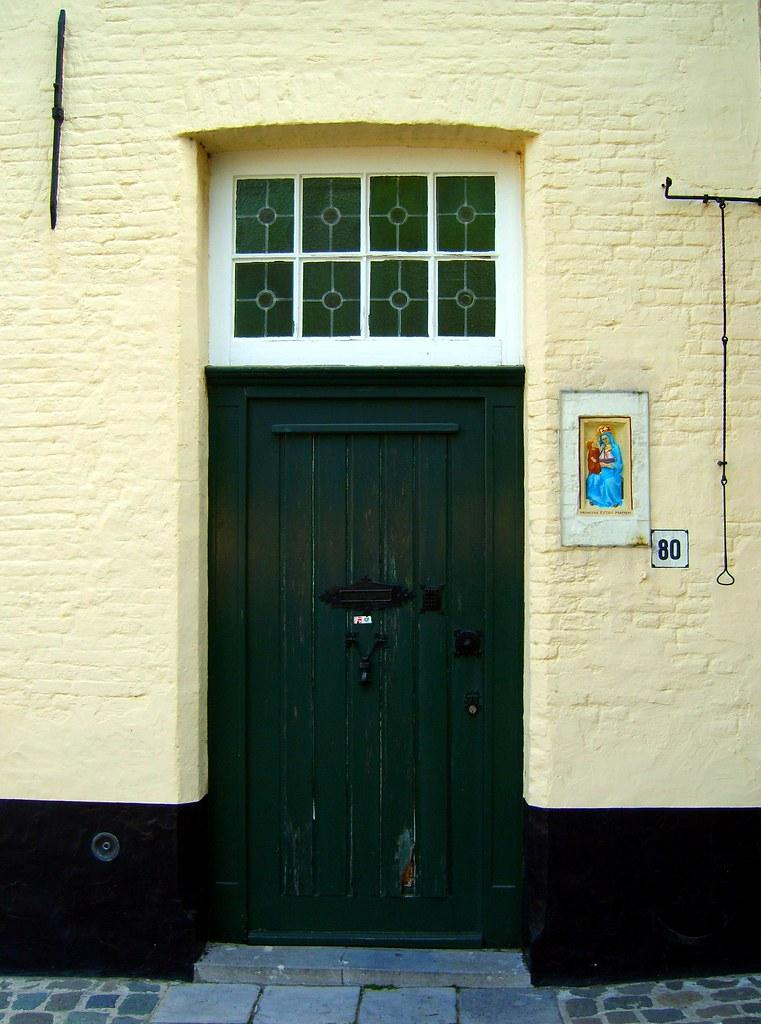door: (208, 368, 526, 949)
